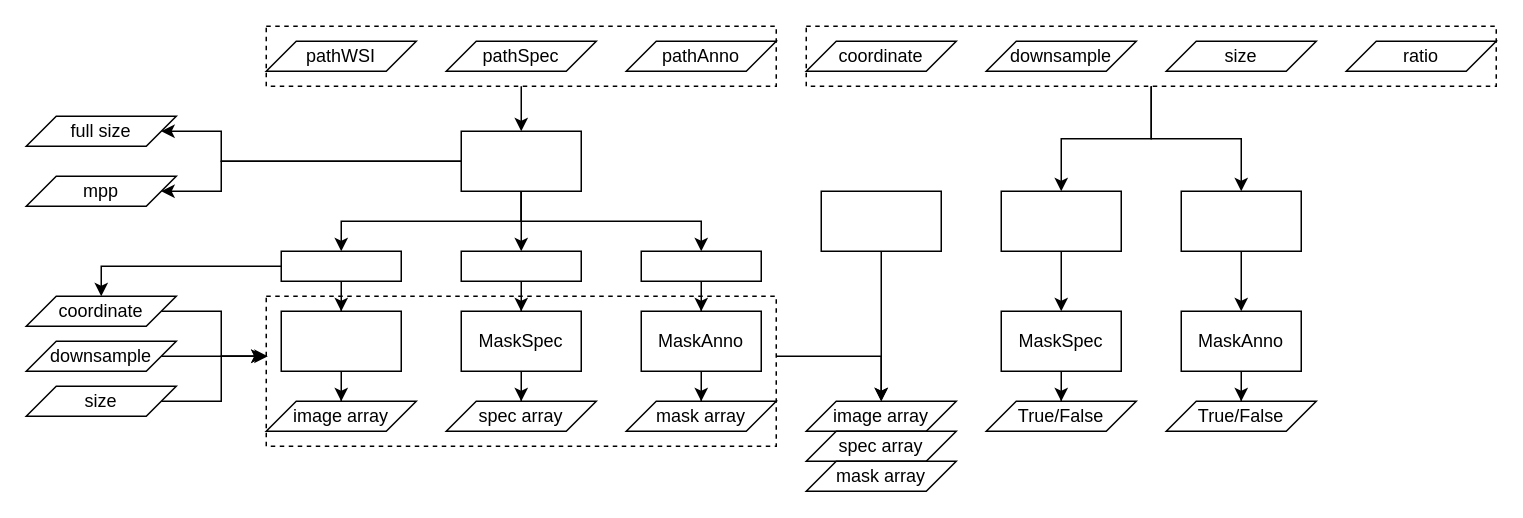
Some shapes in this 1523 by 518 pixel diagram are drawn without their labels. Here are the shapes that lost their labels. From the top down, the centre of each, then its label:
At pixel 520 160: "__init__".
At pixel 880 220: "LoadPack".
At pixel 1060 220: "IsUsefulSpec".
At pixel 1240 220: "IsUsefulAnno".
At pixel 340 265: "handleWSI".
At pixel 520 265: "handleSpec".
At pixel 700 265: "handleAnno".
At pixel 340 340: "ReadRegion".
